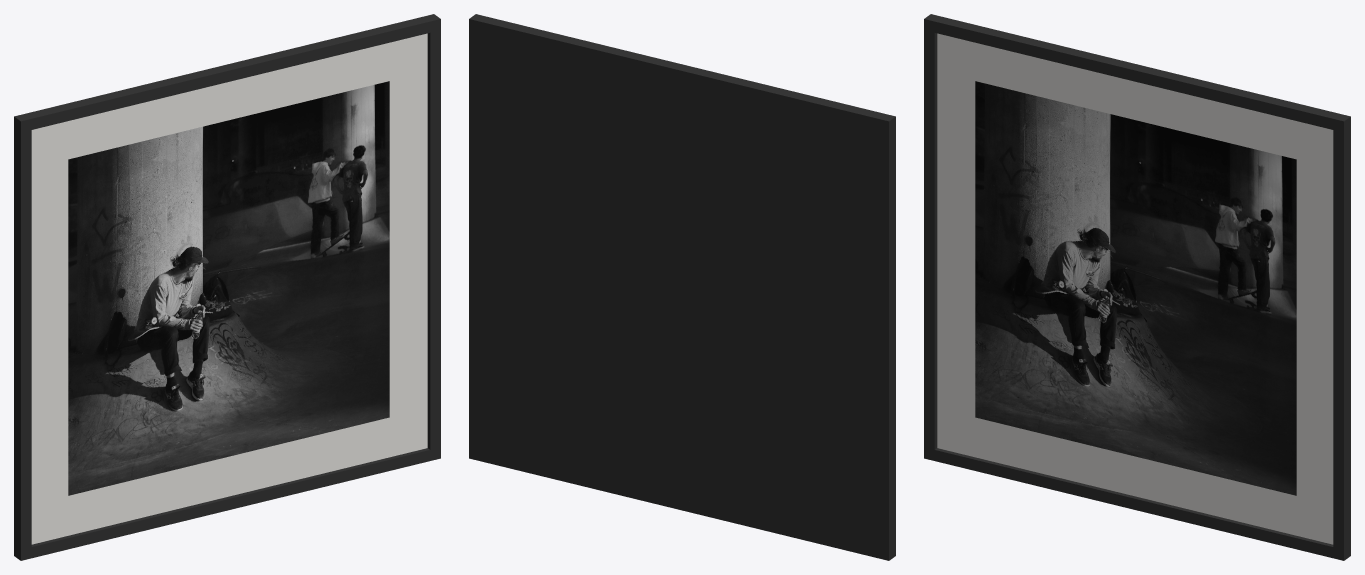
Rendered from pausen-60.gltf.
3 renders of one model, left to right at view 1: azimuth 30°, elevation 25°; view 2: azimuth 150°, elevation 25°; view 3: azimuth 330°, elevation 25°, orthographic.
Parts seen in each view (by area): view 1: tavla; view 2: tavla; view 3: tavla.
Boxes of the visible parts, bbox=[...] form: tavla: bbox=[14, 14, 440, 560]; tavla: bbox=[469, 14, 895, 560]; tavla: bbox=[924, 14, 1350, 560].
Size of the model in its own units: 0.784 by 0.784 by 0.022.
Materials: 3 (1 with a texture image).
